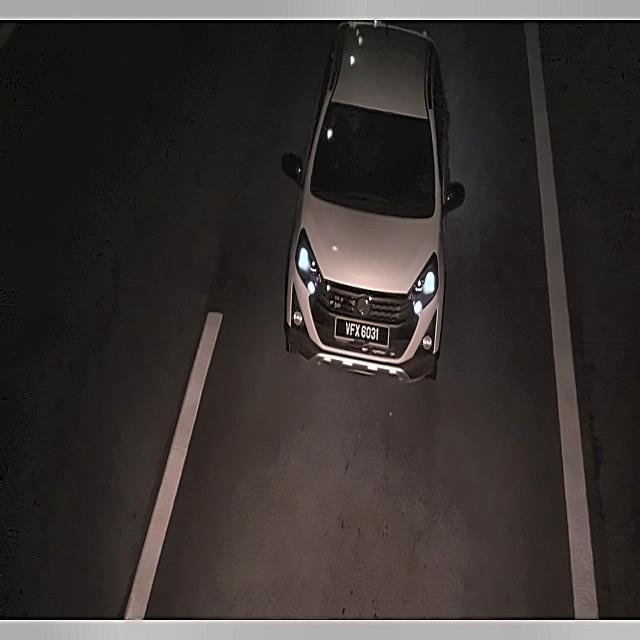car: (332, 309, 391, 352)
